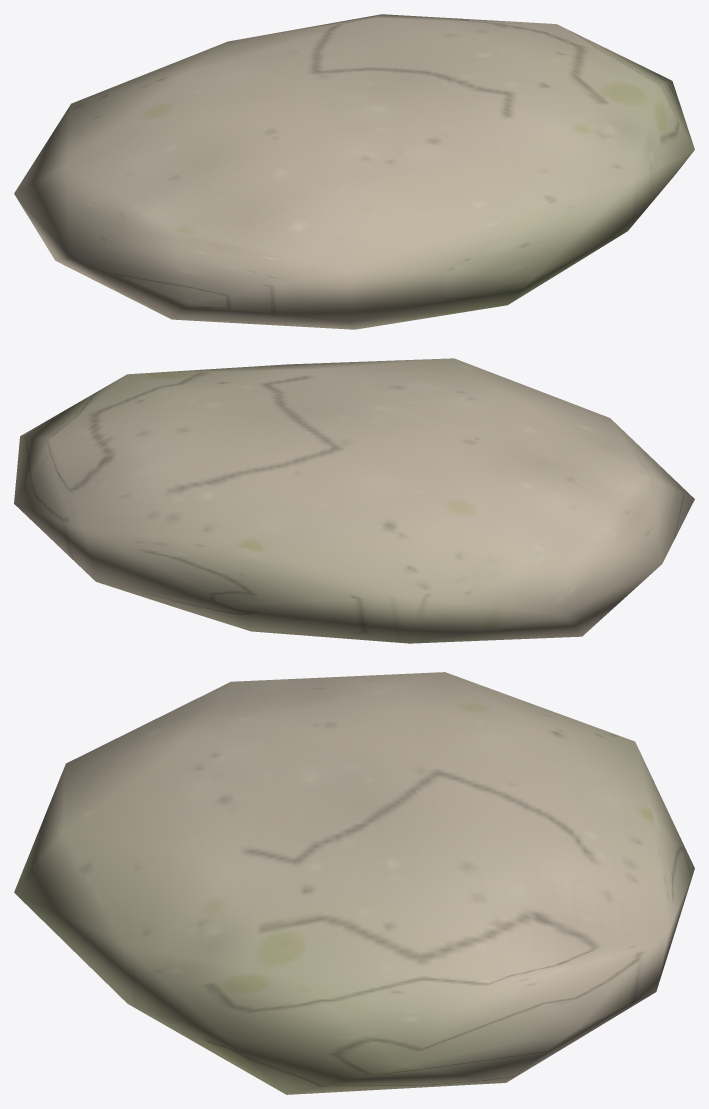
Rendered from region-prop-182.glb.
3 views of the same model, one above another, from view 1: azimuth 30°, elevation 25°; view 2: azimuth 150°, elevation 25°; view 3: azimuth 270°, elevation 25° (orthographic). The views are drawn at different scales.
Visible parts, largest first — view 1: props_rock_0; view 2: props_rock_0; view 3: props_rock_0.
Boxes of the visible parts, x1,y1,x2,y2 form: props_rock_0: (14,14,694,329); props_rock_0: (14,358,694,643); props_rock_0: (14,672,694,1094).
Size of the model in its own units: 0.5675 by 0.1456 by 0.4468.
Materials: 1 (1 with a texture image).
